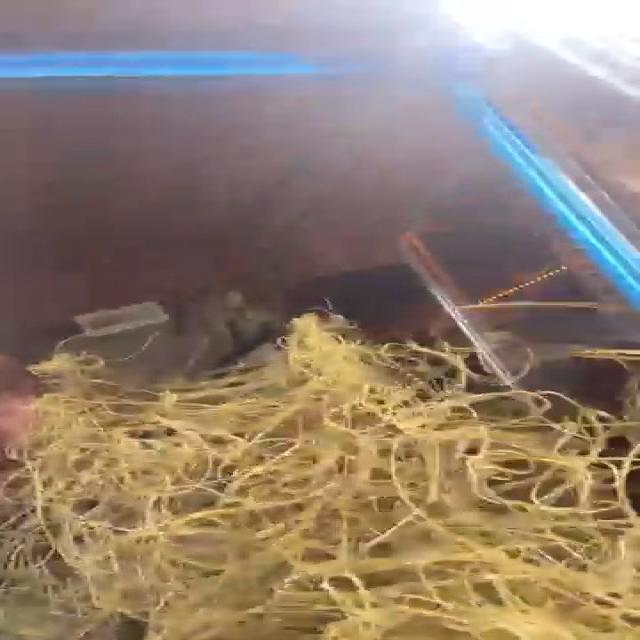spaghetti: (4, 314, 640, 640)
